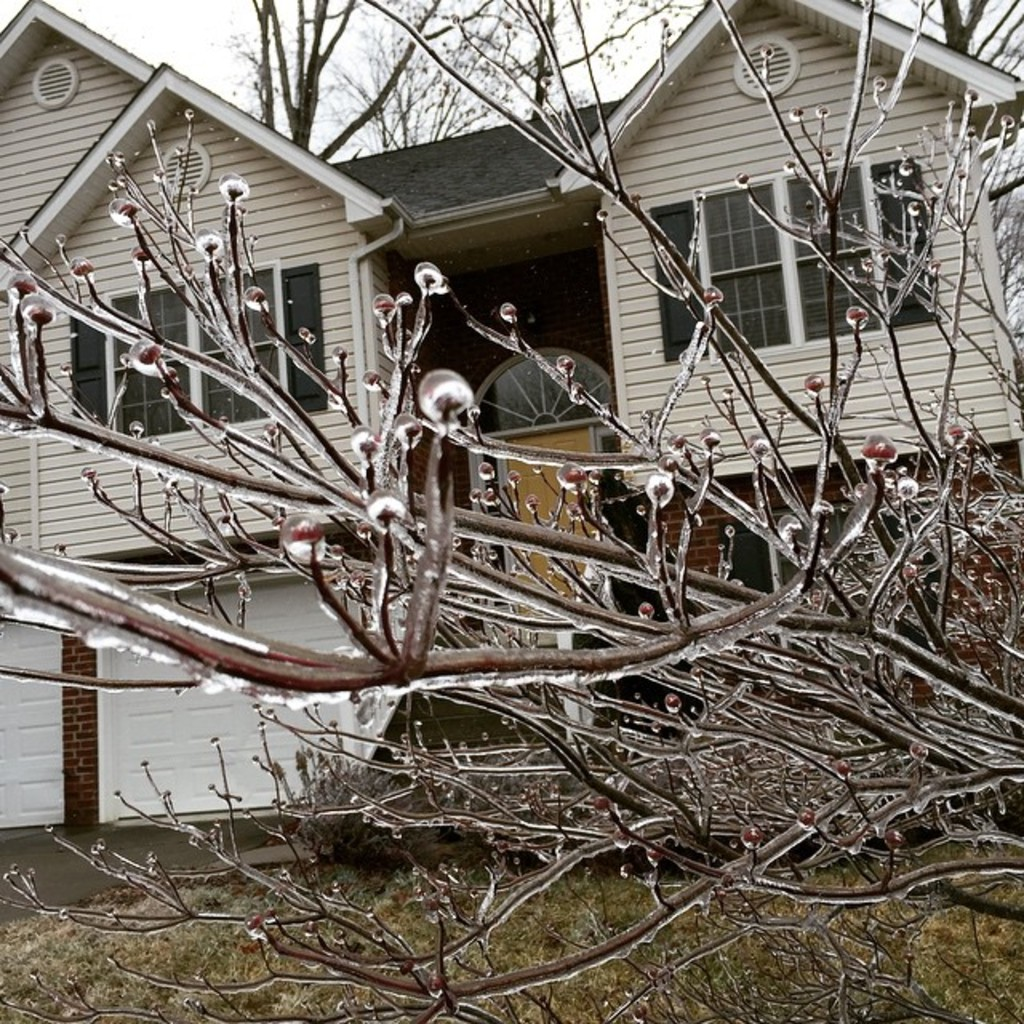Tree: (248, 0, 672, 161), (907, 0, 999, 68)
